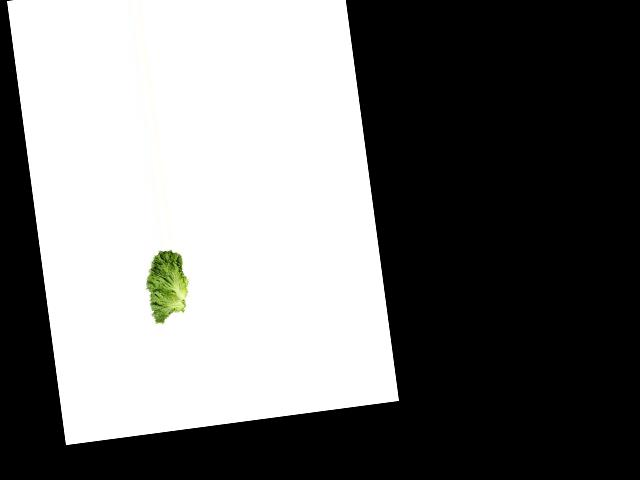lettuce: (136, 247, 196, 325)
